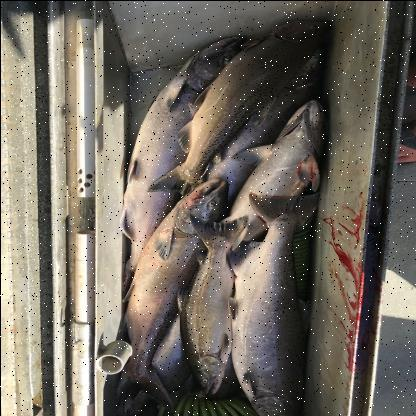fish: (146, 15, 335, 198), (107, 175, 230, 403), (226, 192, 323, 415), (174, 212, 251, 398)
